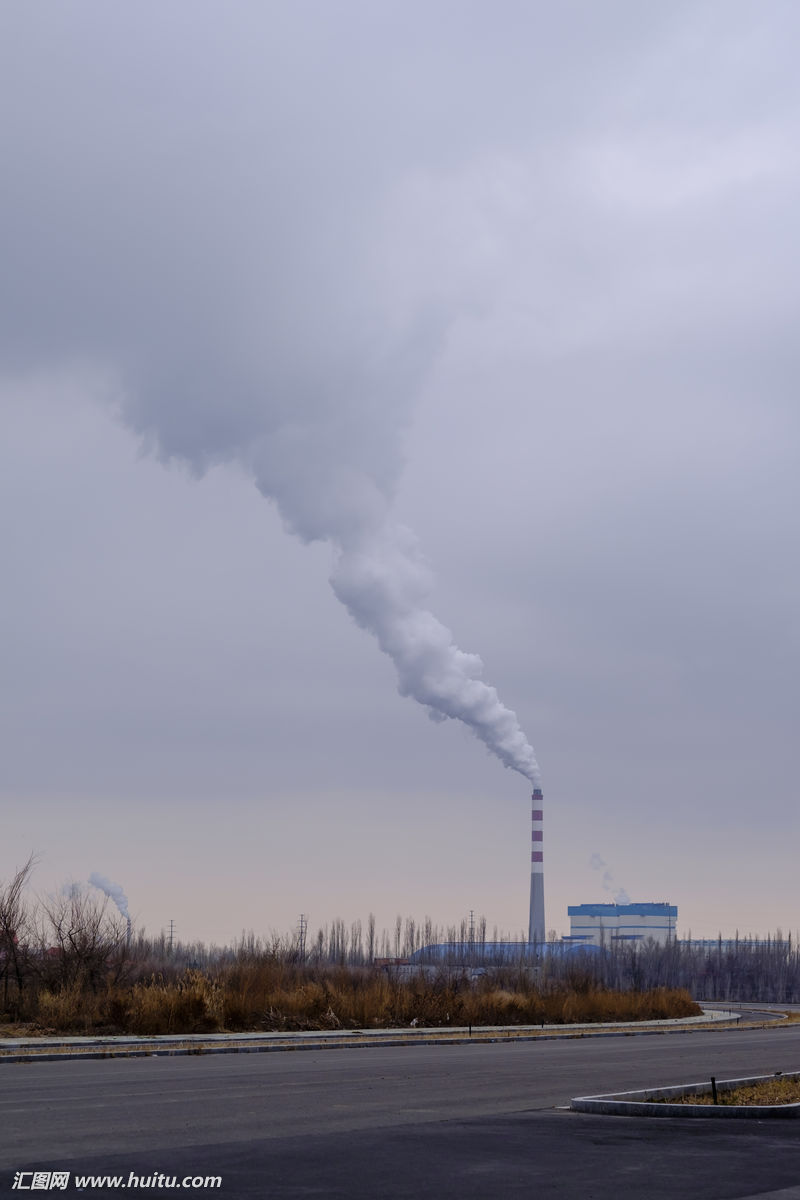dust: (335, 596, 572, 808)
